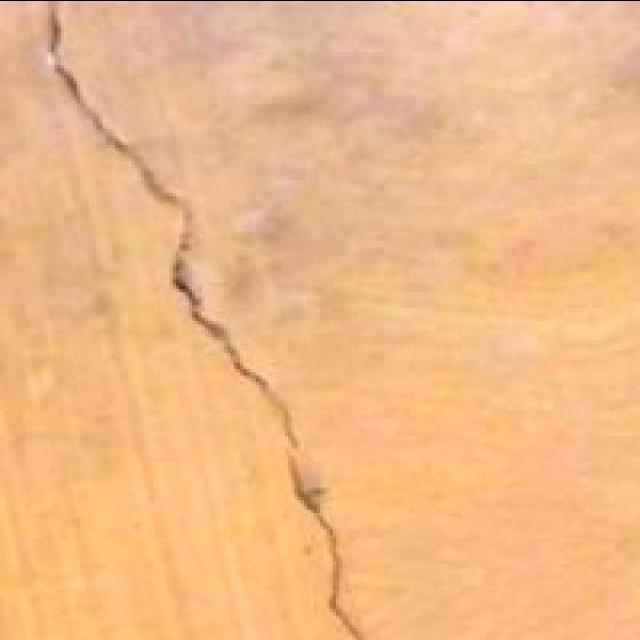SurfaceCrack: (4, 0, 414, 640)
